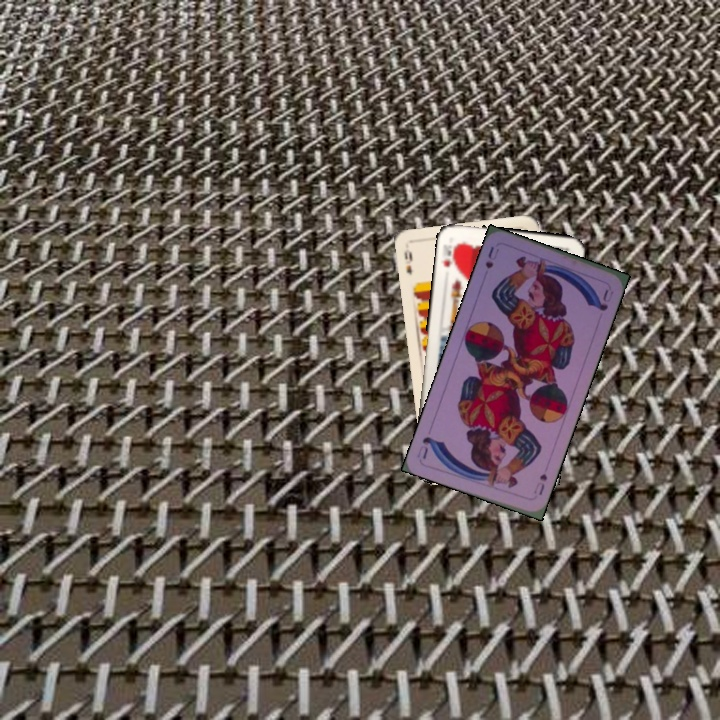E9: (400, 245, 415, 277)
HK: (439, 239, 460, 270)
SU: (481, 242, 502, 271), (530, 470, 550, 498)
